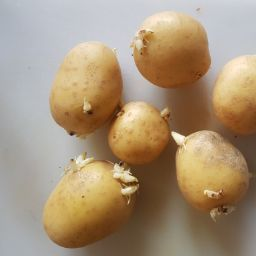Russet potato: (21, 11, 256, 249), (46, 149, 138, 249), (42, 37, 124, 140), (174, 119, 255, 222), (129, 7, 215, 91), (118, 100, 170, 177), (214, 50, 256, 138)
